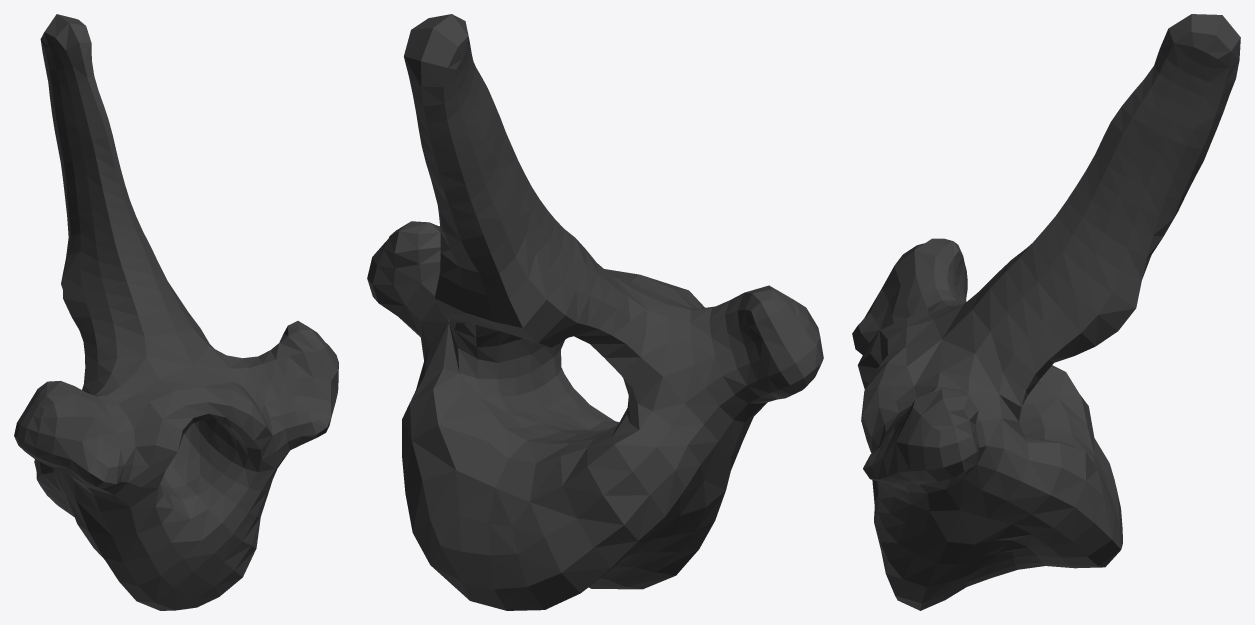
3 renders of one model, left to right at view 1: azimuth 30°, elevation 25°; view 2: azimuth 150°, elevation 25°; view 3: azimuth 270°, elevation 25°, orthographic. The views are drawn at different scales.
Visible parts, largest first — view 1: T8; view 2: T8; view 3: T8.
Boxes of the visible parts, <box> form: T8: <box>14,14,338,610</box>; T8: <box>367,14,823,610</box>; T8: <box>852,14,1240,610</box>.
Bounding box in the file's own units: 2.24 × 3.37 × 2.02.
Materials: 1 (1 with a texture image).
